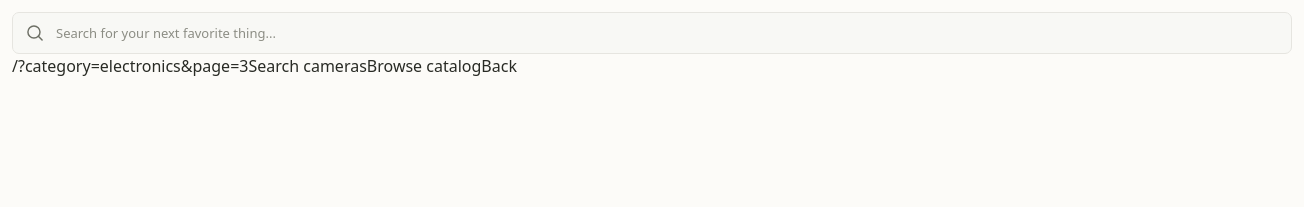
ProductSearchBar › submits a trimmed, encoded query with icon and resets catalog pagination
In the dropdown named "Search products": (674, 33) [56, 13, 1291, 53], type "  headphones & stand  "
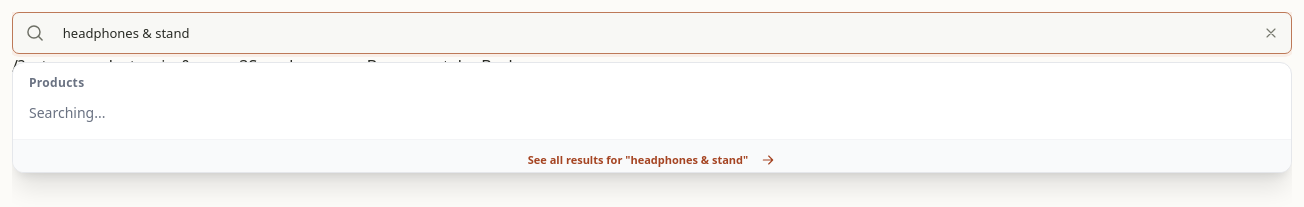
Click the button named "Search": (34, 33) [13, 13, 56, 53]
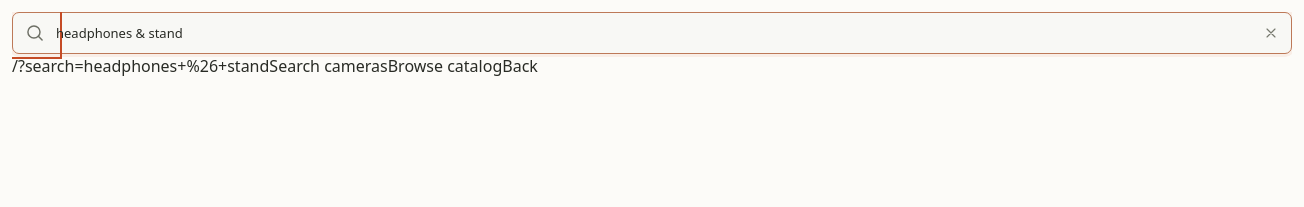
Expected: the text named "Current route" reads "/?search=headphones+%26+stand", [12, 55, 269, 77]
Expected: the dropdown named "Search products" is collapsed, [56, 13, 1255, 53]
